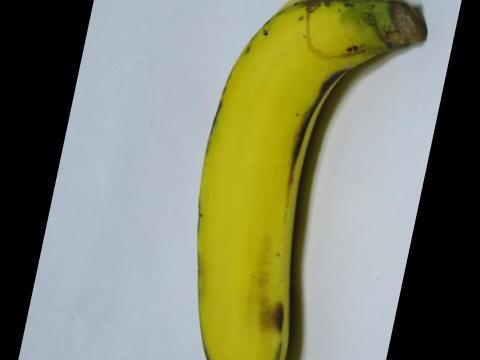freshripe: (179, 0, 441, 359)
